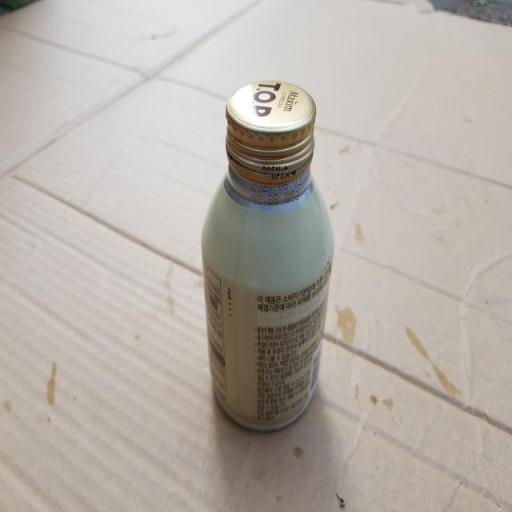metal: (174, 67, 355, 450)
